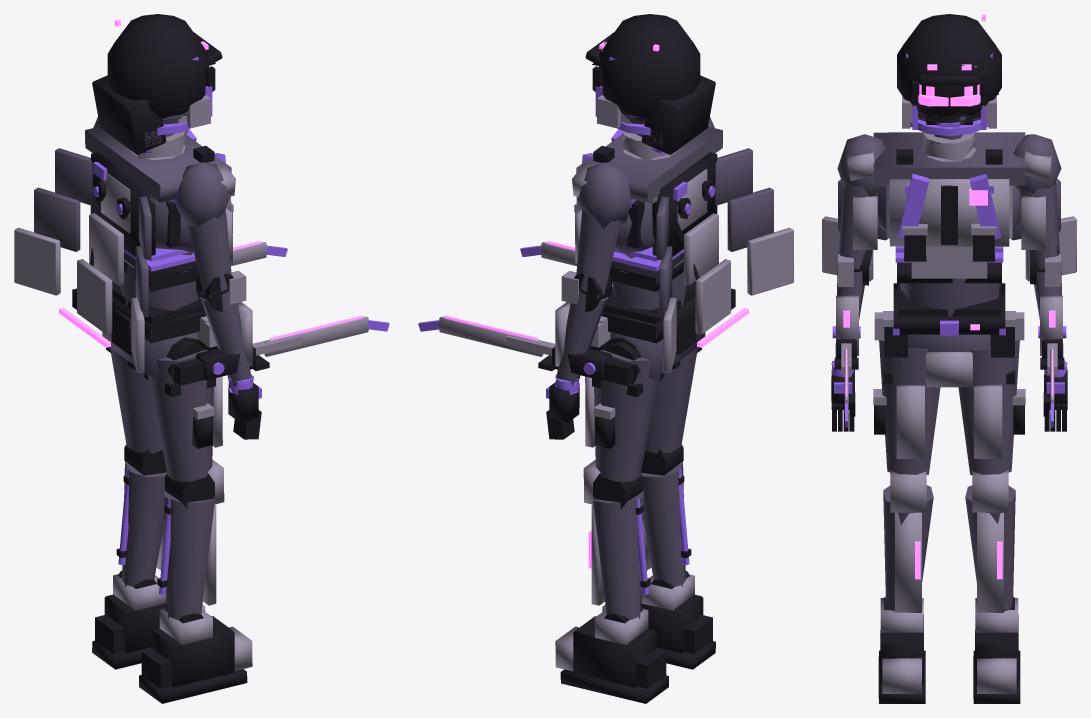
Rendered from humanoide_asesino.glb.
3 renders of one model, left to right at view 1: azimuth 30°, elevation 25°; view 2: azimuth 150°, elevation 25°; view 3: azimuth 270°, elevation 25°, orthographic.
Parts seen in each view (by area): view 1: mov_pierna_der, mov_capa, mov_pierna_izq, mov_torso, asesino_capucha, mov_brazo_der, asesino_cuchilla_d, pelvis, asesino_cuchilla_i; view 2: mov_pierna_izq, mov_capa, mov_pierna_der, mov_torso, asesino_capucha, mov_brazo_izq, asesino_cuchilla_i, pelvis, asesino_cuchilla_d; view 3: mov_torso, mov_pierna_izq, mov_pierna_der, asesino_capucha, mov_brazo_der, mov_brazo_izq, pelvis, mov_capa, mov_cabeza, asesino_cuchilla_d, asesino_cuchilla_i.
Boxes of the visible parts, box(x1,y1,x2,y2) form: mov_pierna_der: box(139, 337, 252, 703); mov_capa: box(14, 148, 180, 372); mov_pierna_izq: box(92, 347, 205, 669); mov_torso: box(85, 126, 233, 329); asesino_capucha: box(92, 14, 222, 154); mov_brazo_der: box(176, 162, 261, 439); asesino_cuchilla_d: box(174, 315, 389, 385); pelvis: box(102, 296, 217, 384); asesino_cuchilla_i: box(72, 241, 287, 309); mov_pierna_izq: box(555, 337, 668, 703); mov_capa: box(627, 148, 793, 372); mov_pierna_der: box(602, 347, 715, 669); mov_torso: box(574, 126, 722, 329); asesino_capucha: box(585, 14, 715, 154); mov_brazo_izq: box(546, 162, 631, 439); asesino_cuchilla_i: box(418, 315, 633, 385); pelvis: box(590, 296, 705, 384); asesino_cuchilla_d: box(520, 241, 735, 309); mov_torso: box(873, 132, 1025, 316); mov_pierna_izq: box(958, 340, 1025, 703); mov_pierna_der: box(873, 340, 940, 703); asesino_capucha: box(897, 14, 1001, 136); mov_brazo_der: box(831, 134, 885, 431); mov_brazo_izq: box(1013, 134, 1067, 431); pelvis: box(874, 283, 1024, 387); mov_capa: box(822, 179, 1076, 281); mov_cabeza: box(906, 14, 998, 143); asesino_cuchilla_d: box(832, 326, 860, 427); asesino_cuchilla_i: box(1038, 326, 1066, 427).
Size of the model in its own units: 0.7349 by 1.75 by 0.6117.
